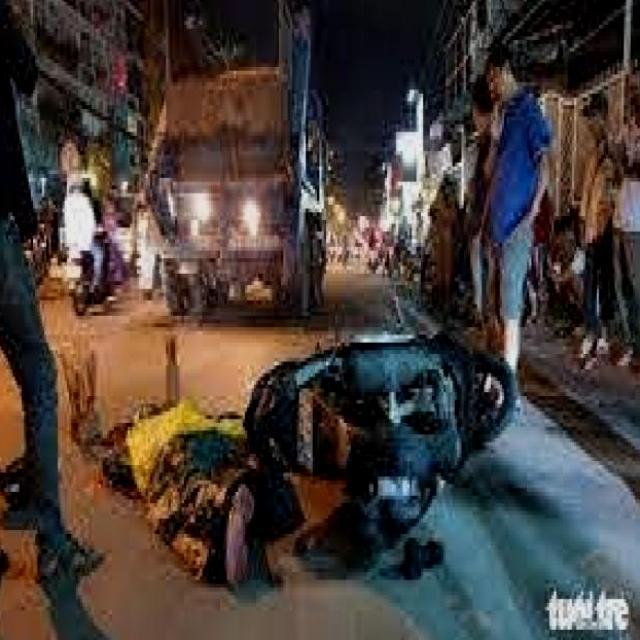accident: (214, 270, 537, 534)
